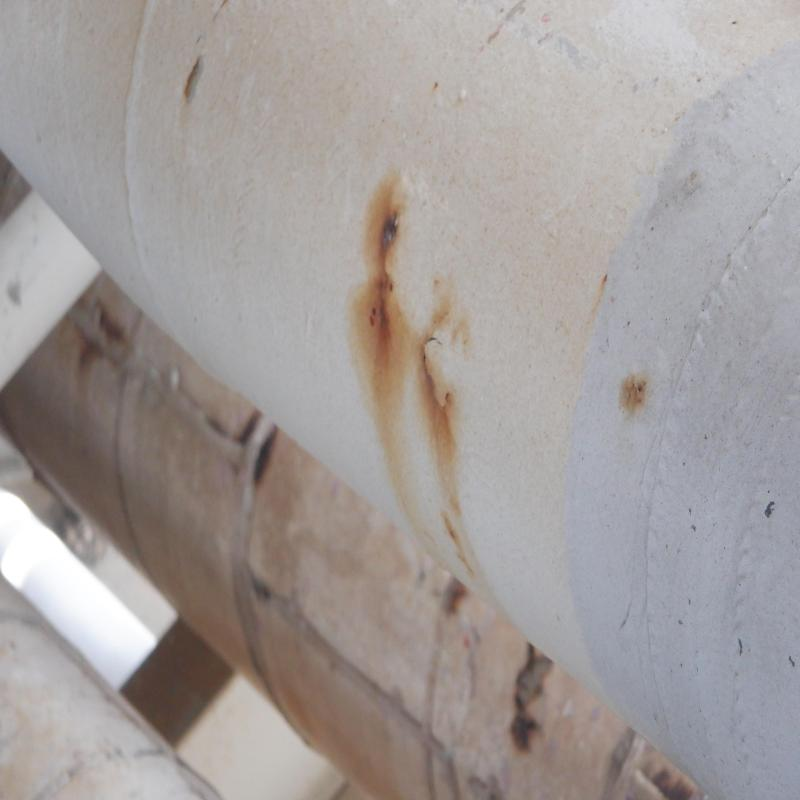Fracture: (378, 208, 404, 255)
corrosion: (372, 306, 394, 361)
